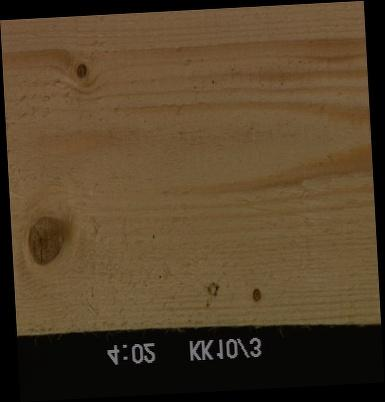dry_knot: (249, 286, 262, 304)
sound_knot: (25, 214, 67, 267), (72, 62, 87, 81)
